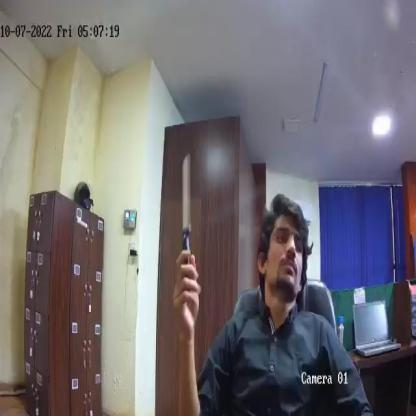Knife: (178, 152, 192, 272)
